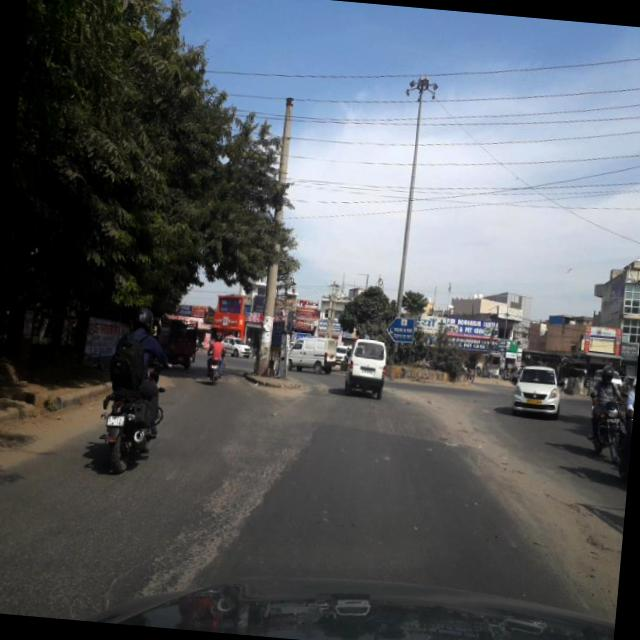crack: (142, 409, 302, 603)
